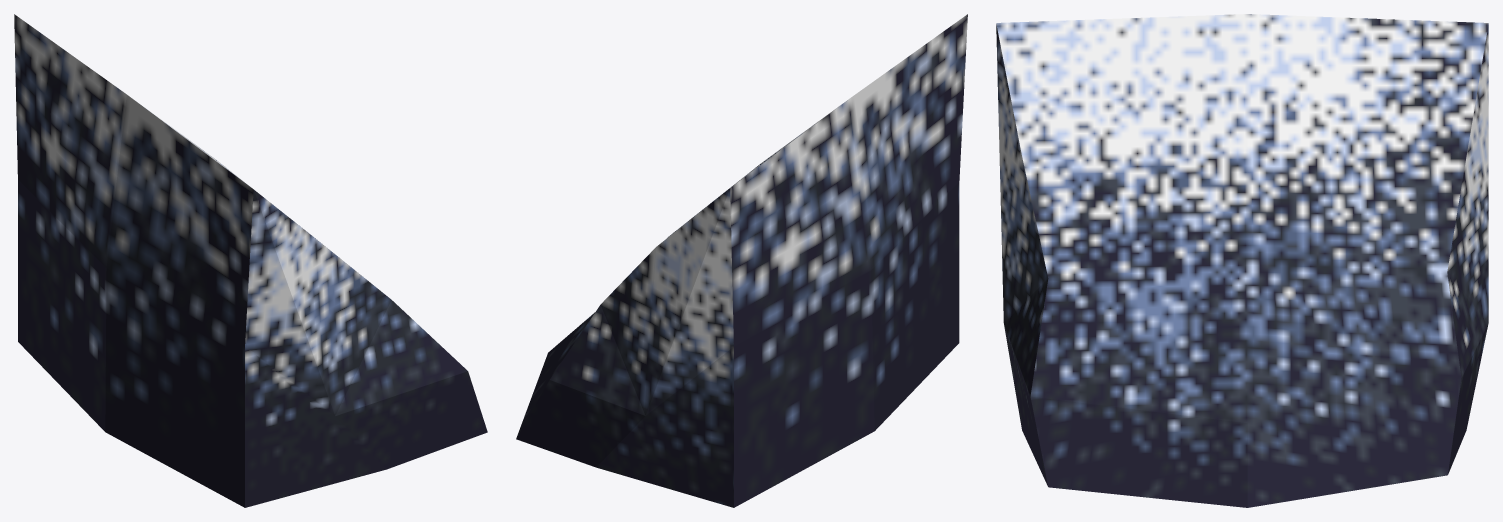
The model's file is Mountain_Slope_03.obj.
3 views of the same model, side by side, from view 1: azimuth 30°, elevation 25°; view 2: azimuth 150°, elevation 25°; view 3: azimuth 270°, elevation 25° (orthographic). The views are drawn at different scales.
Visible parts, largest first — view 1: Cube; view 2: Cube; view 3: Cube.
Part boxes in pixels (x1,y1,x2,y2): Cube: [14, 14, 487, 507]; Cube: [516, 14, 967, 507]; Cube: [996, 14, 1488, 507].
Bounding box in the file's own units: 2.11 × 2.04 × 2.67.
Materials: 1 (1 with a texture image).
